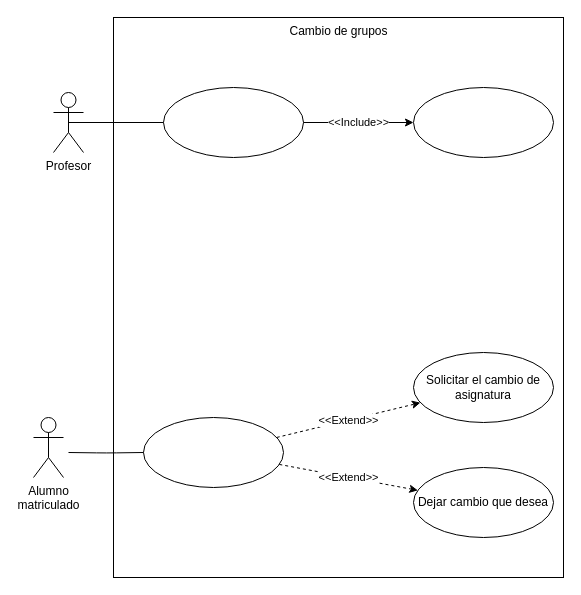
Image size: 581x595. Some labels were removed from this diagram. The centre of each missing label's shape, as x and y in pixels:
"Consultar peticiones de cambio" goes at [213,452].
"Dar de alta a la asignatura" goes at [233,122].
"Proporcionar un listado de alumnos" goes at [483,122].
